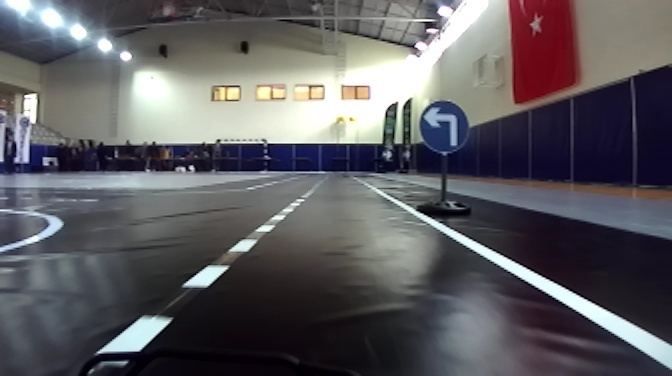sola_donus: (415, 100, 471, 153)
